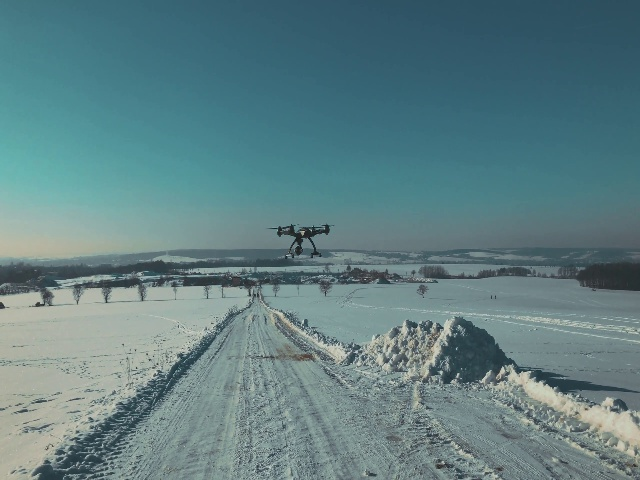drone: (266, 220, 339, 260)
